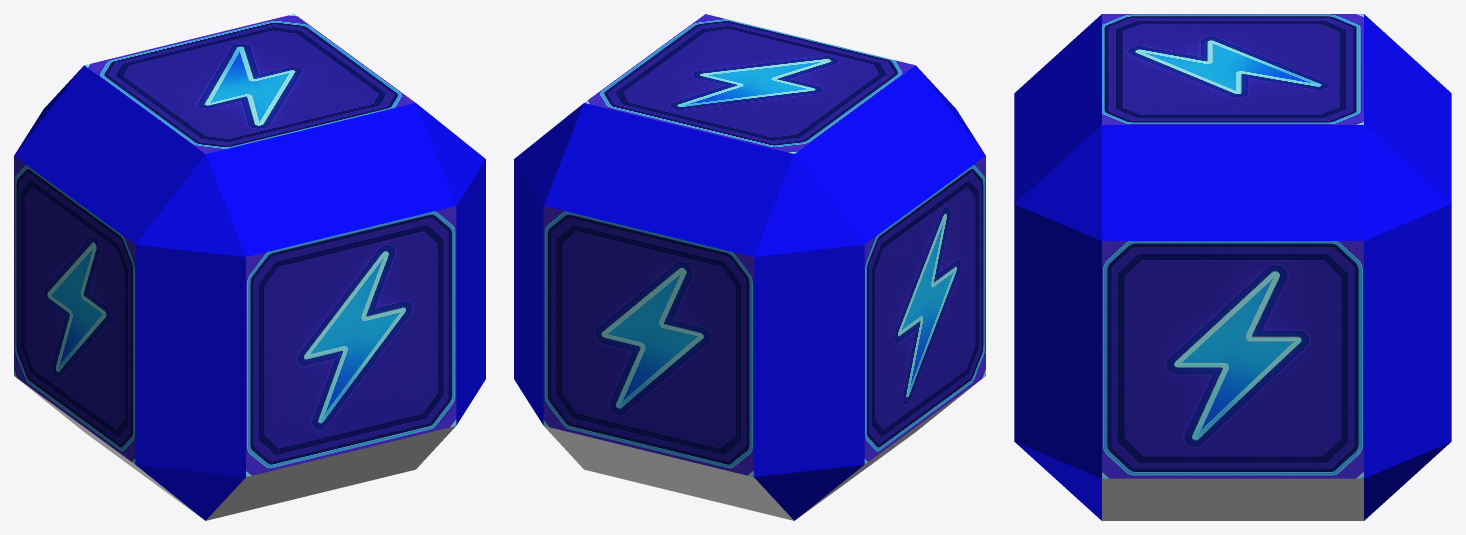
The model's file is PowerUpBoxModel.fbx.
The picture shows the model from 3 angles, left to right: view 1: azimuth 30°, elevation 25°; view 2: azimuth 150°, elevation 25°; view 3: azimuth 270°, elevation 25°; orthographic projection. The views are drawn at different scales.
Parts seen in each view (by area): view 1: PowerUpBoxModel; view 2: PowerUpBoxModel; view 3: PowerUpBoxModel.
Part boxes in pixels (box(x1,y1,x2,y2)): PowerUpBoxModel: box(14, 14, 485, 520); PowerUpBoxModel: box(514, 14, 985, 520); PowerUpBoxModel: box(1014, 14, 1451, 520).
Size of the model in its own units: 100 by 100 by 100.
